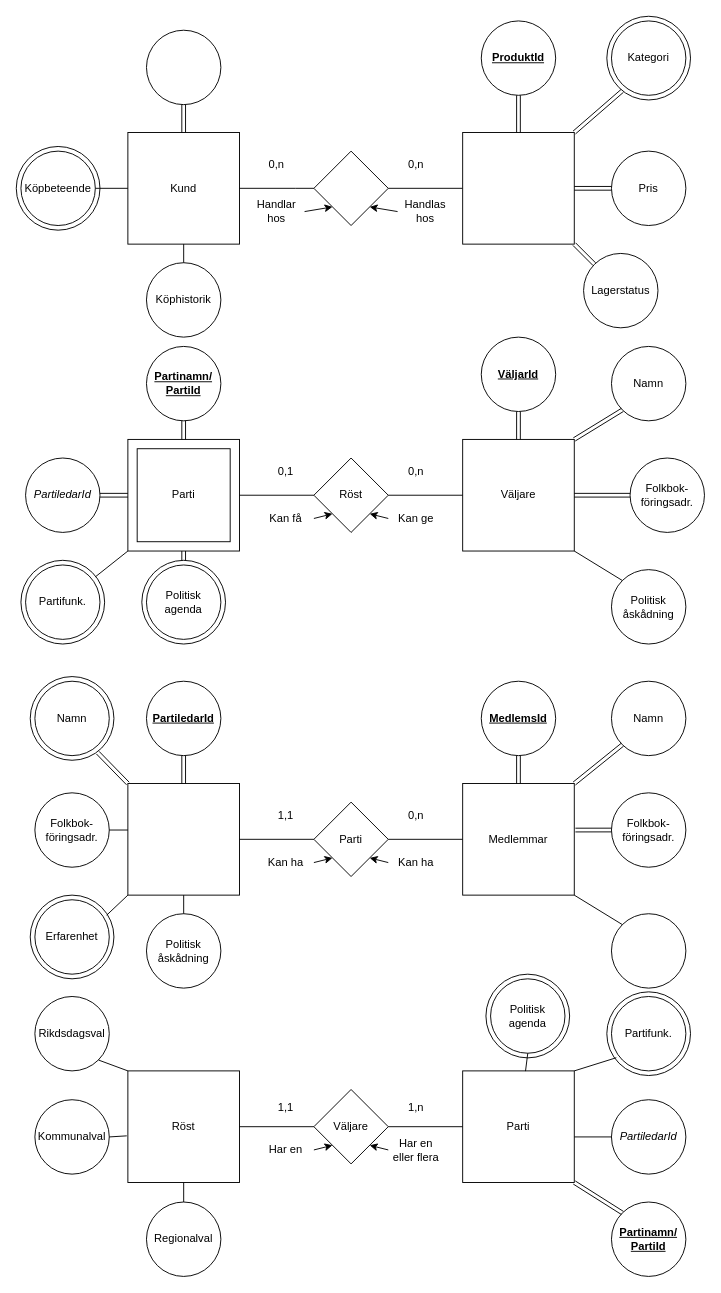
The diagram is 721 pixels wide and 1293 high, and some of its shapes have lost their labels. The shapes that lost their labels are listed below. From the top down, each one's centre as x and y in pixels, then its label:
the point at 183,67: KundId
the point at 350,188: Återförsäljare
the point at 518,188: Produkt
the point at 183,839: Partiledare
the point at 648,950: Politisk status
